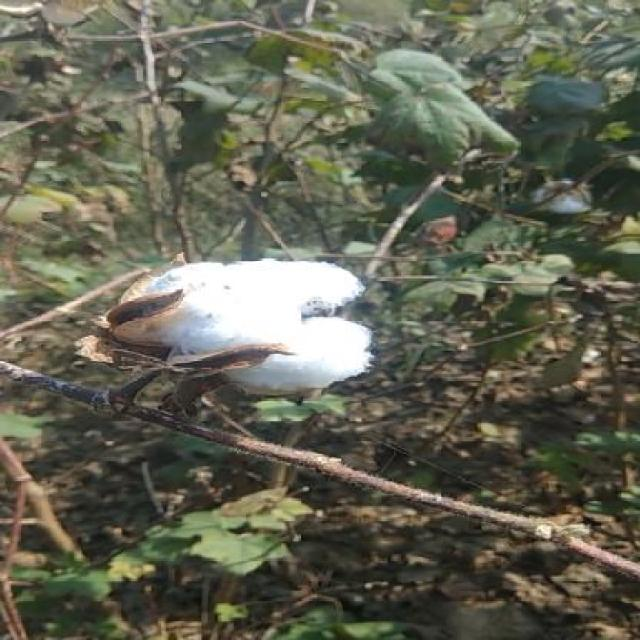cotton_ready: (91, 252, 380, 440)
